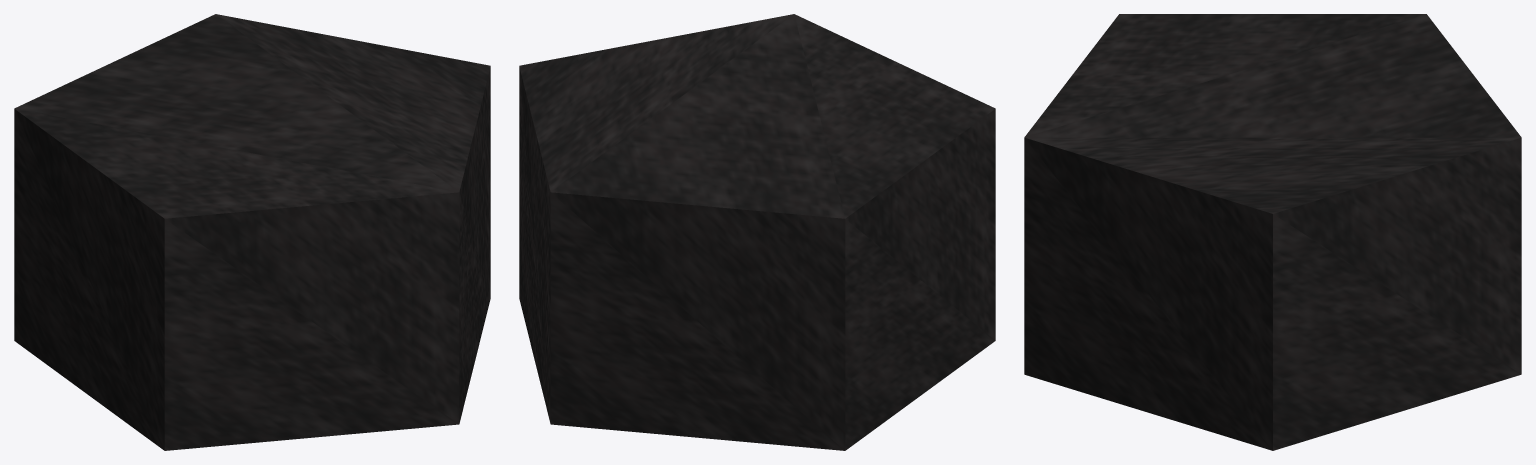
File: carbonPenta.obj
3 views of the same model, side by side, from view 1: azimuth 30°, elevation 25°; view 2: azimuth 150°, elevation 25°; view 3: azimuth 270°, elevation 25° (orthographic). The views are drawn at different scales.
Parts seen in each view (by area): view 1: pCylinder10; view 2: pCylinder10; view 3: pCylinder10.
Boxes of the visible parts, left/top/right/bottom form: pCylinder10: left=14, top=14, right=490, bottom=450; pCylinder10: left=519, top=14, right=995, bottom=450; pCylinder10: left=1024, top=14, right=1521, bottom=450.
Bounding box in the file's own units: 1.81 × 1 × 1.9.
Materials: 1 (1 with a texture image).
